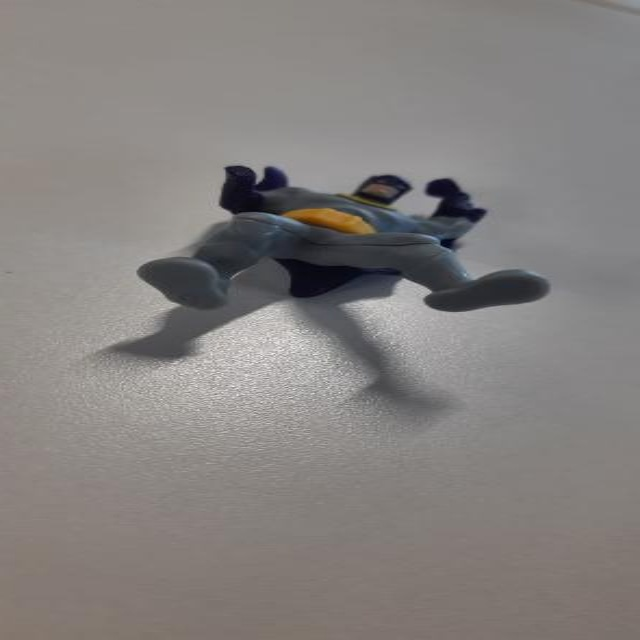Batman: (133, 160, 548, 312)
